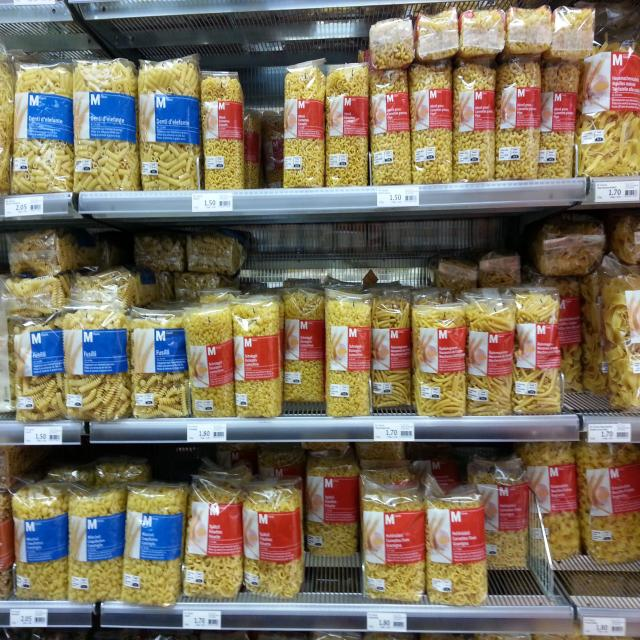Pasta: (575, 34, 640, 178), (73, 59, 138, 190), (138, 55, 200, 192), (122, 484, 188, 606), (12, 64, 73, 194), (575, 441, 640, 563), (182, 477, 245, 599), (64, 309, 132, 421), (426, 488, 488, 605), (363, 486, 425, 602), (466, 458, 530, 570), (242, 484, 304, 598), (68, 484, 126, 602), (12, 481, 68, 601), (523, 442, 580, 559), (464, 292, 517, 417), (131, 305, 190, 416), (511, 286, 561, 413), (411, 303, 466, 417), (324, 288, 372, 418), (182, 303, 236, 416), (602, 257, 640, 415), (233, 300, 283, 418), (8, 314, 63, 421), (496, 60, 542, 182), (306, 456, 359, 558), (324, 64, 368, 186), (368, 287, 412, 408), (453, 61, 496, 182), (284, 57, 324, 187), (200, 71, 243, 191), (369, 66, 412, 185), (411, 63, 452, 185), (538, 63, 578, 180), (283, 288, 324, 401), (8, 227, 97, 272), (533, 222, 606, 275), (72, 264, 157, 306), (187, 224, 253, 274), (549, 4, 595, 62), (5, 274, 67, 314), (416, 8, 460, 62), (370, 17, 415, 69), (460, 8, 506, 57), (507, 6, 552, 53), (133, 234, 184, 272)
